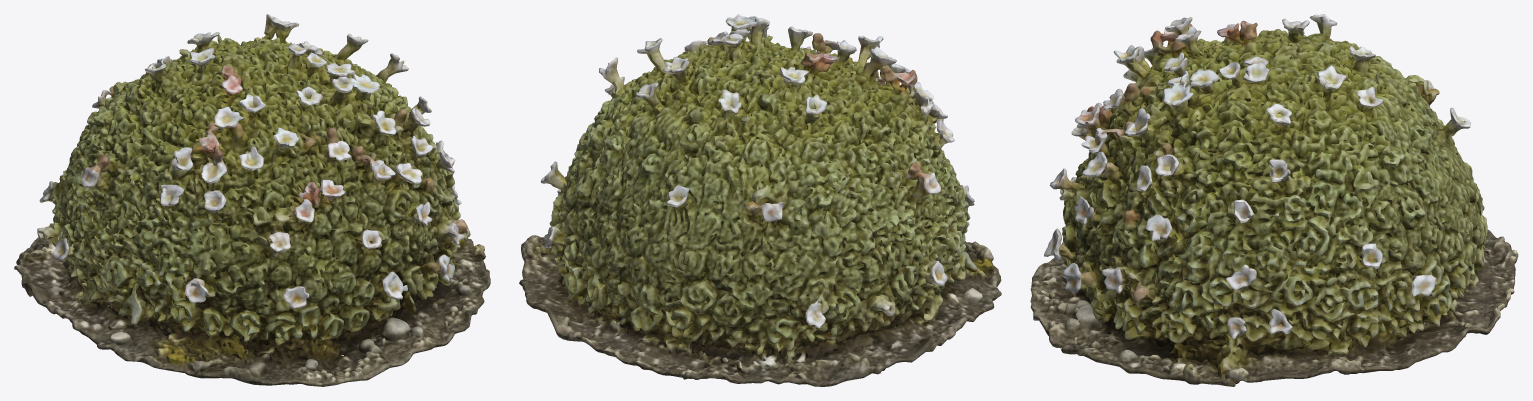
File: alpine-cushion-cluster-v21-lod.glb
The picture shows the model from 3 angles, left to right: view 1: azimuth 30°, elevation 25°; view 2: azimuth 150°, elevation 25°; view 3: azimuth 270°, elevation 25°; orthographic projection. The views are drawn at different scales.
Visible parts, largest first — view 1: geometry_0; view 2: geometry_0; view 3: geometry_0.
Part boxes in pixels (x1=…): geometry_0: x1=14, y1=14, x2=490, y2=386; geometry_0: x1=519, y1=14, x2=1001, y2=386; geometry_0: x1=1030, y1=14, x2=1518, y2=386.
Size of the model in its own units: 0.3 by 0.1819 by 0.2996.
1 material, 1 textured.
